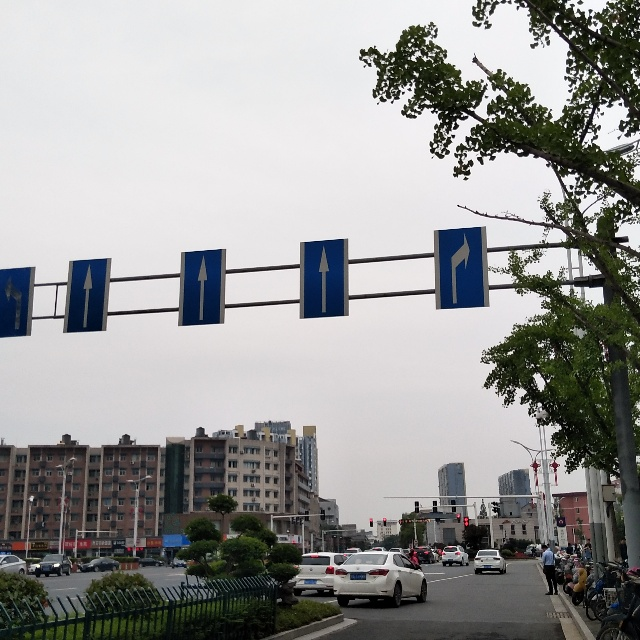right: (434, 226, 491, 311)
straight: (299, 238, 349, 321), (178, 249, 227, 327), (63, 258, 111, 334)
